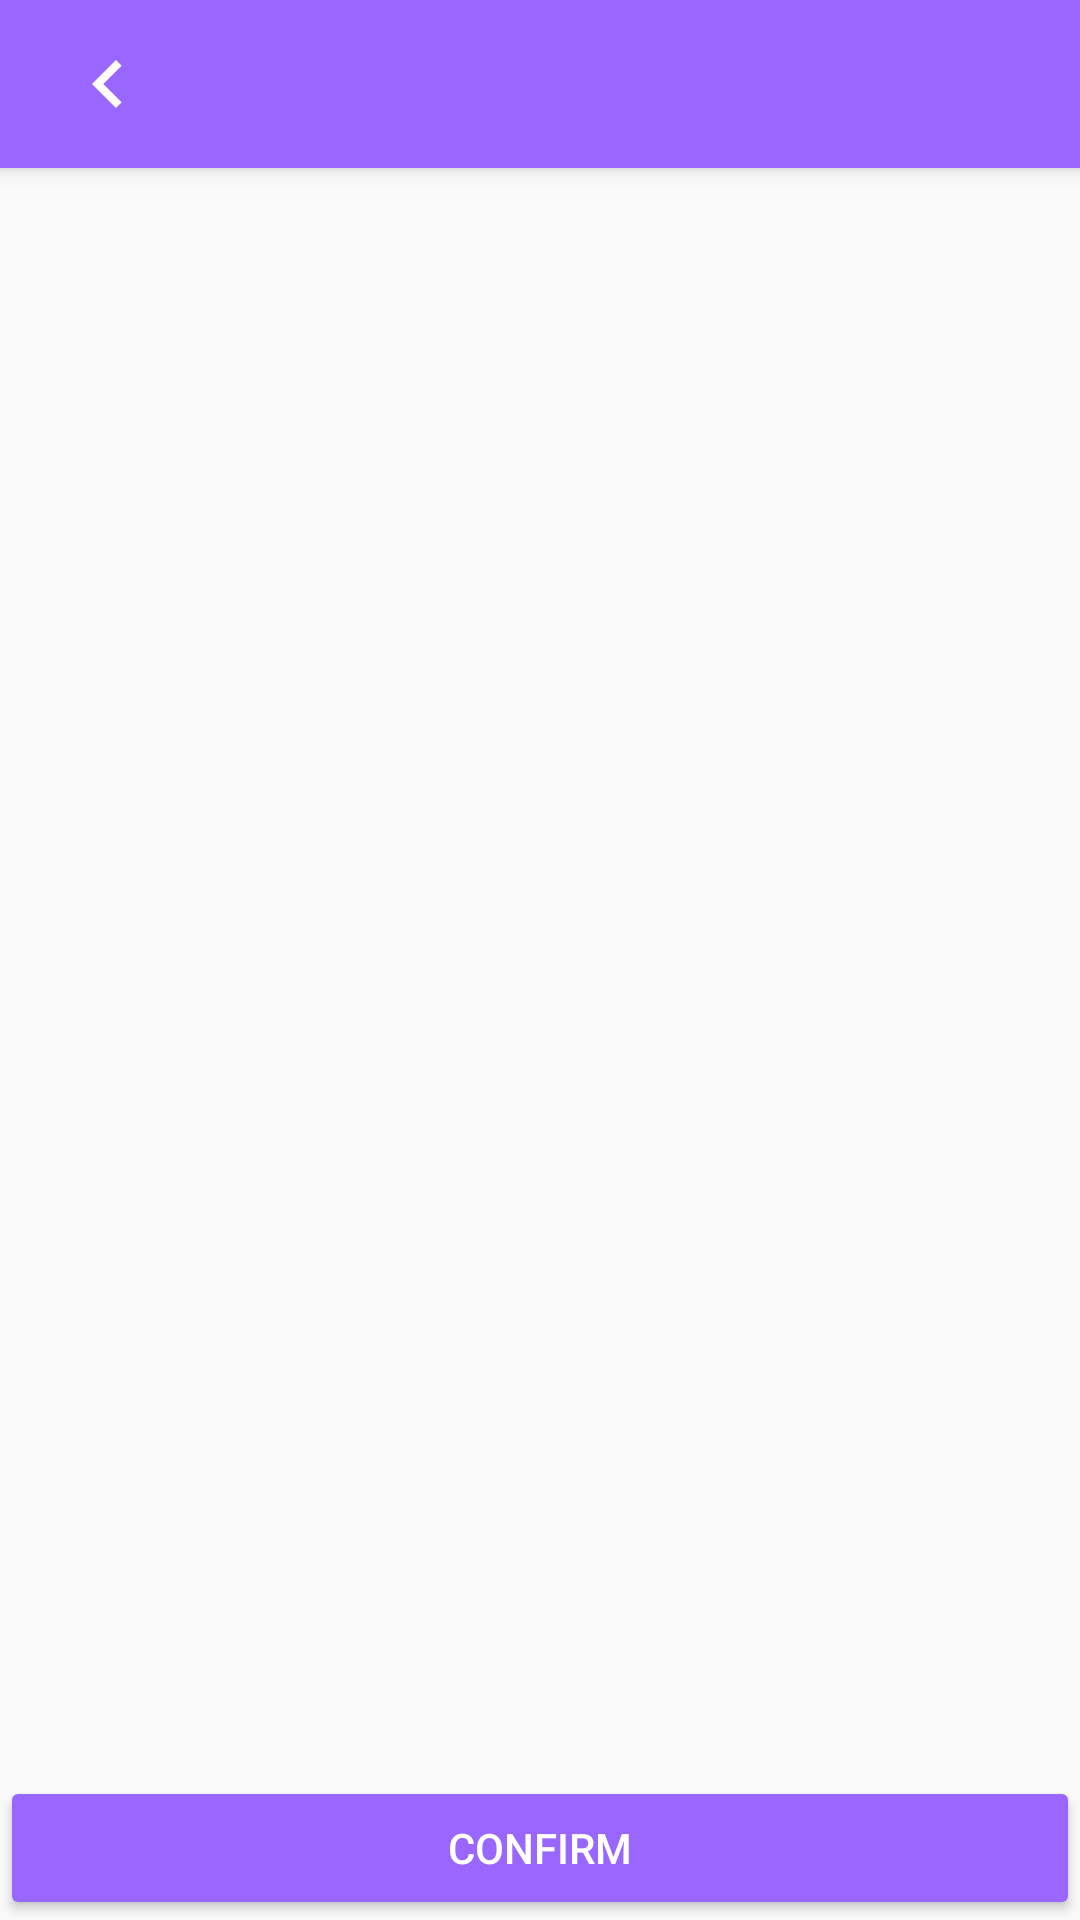

Where icons sit on this 1080x1920 app screen, as [left=x1, top=y1, right=x2, bottom=y2]:
Back: [left=92, top=60, right=122, bottom=108]
